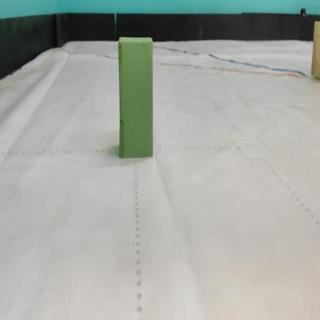greenbox: (119, 37, 153, 158)
